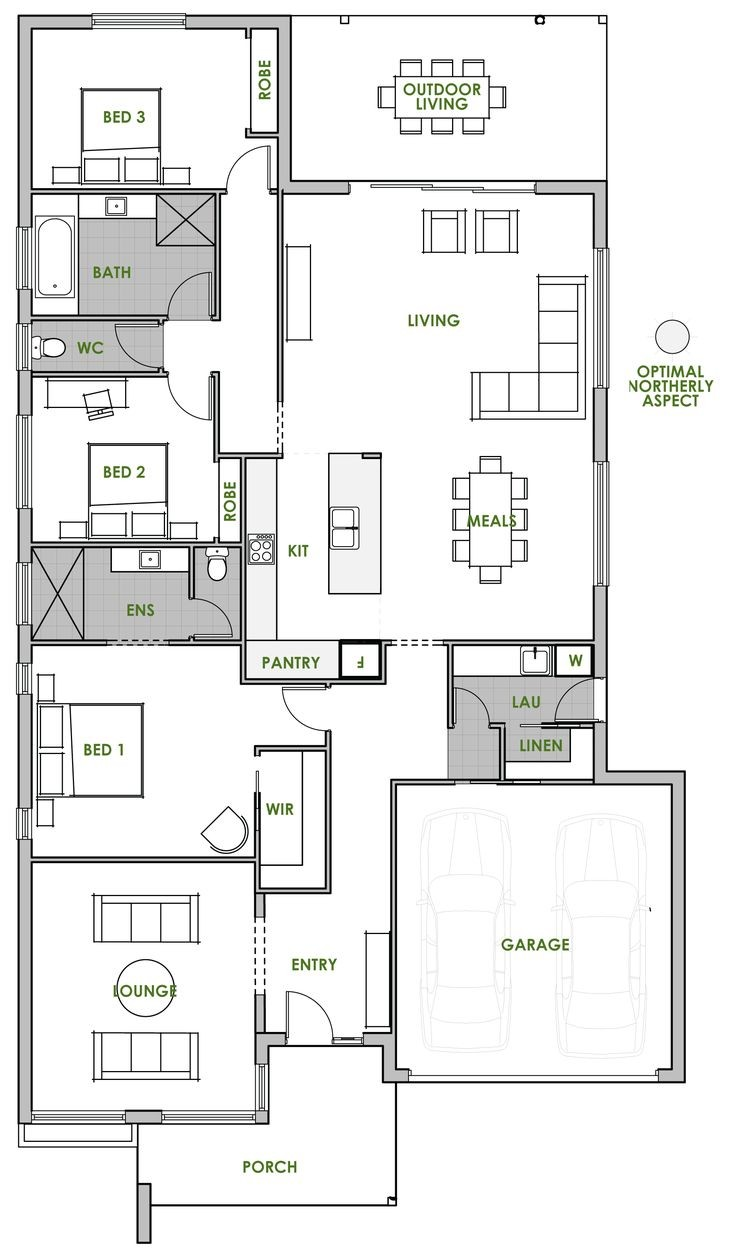door: (111, 311, 182, 379), (274, 684, 344, 744), (213, 138, 280, 200), (163, 365, 223, 432), (280, 990, 344, 1044), (553, 669, 607, 721), (188, 588, 230, 646), (167, 273, 211, 317)
room: (288, 179, 609, 669), (15, 19, 288, 363), (398, 763, 684, 1082), (24, 369, 284, 654), (24, 657, 338, 869), (286, 9, 611, 188)
wall: (665, 767, 692, 1082), (11, 842, 36, 1134), (382, 775, 409, 1036), (265, 1, 299, 198), (13, 7, 44, 223), (36, 850, 263, 873), (32, 532, 238, 557), (236, 459, 259, 679), (178, 4, 294, 42), (24, 182, 224, 204), (586, 761, 690, 800), (32, 307, 176, 334), (269, 205, 288, 407), (586, 584, 619, 686), (271, 167, 353, 205), (319, 736, 338, 898), (15, 692, 38, 811), (532, 171, 613, 202), (438, 640, 463, 730), (588, 384, 617, 459), (36, 630, 115, 657), (511, 769, 603, 792), (590, 171, 615, 254), (380, 1034, 415, 1092), (42, 365, 182, 379), (257, 879, 342, 902), (586, 727, 617, 788), (211, 363, 230, 461), (15, 507, 42, 567), (388, 773, 461, 794), (171, 625, 244, 646), (223, 444, 282, 469), (7, 373, 40, 417), (253, 1036, 292, 1063), (490, 727, 509, 782), (15, 290, 42, 327), (13, 627, 42, 661), (540, 725, 605, 740), (359, 1036, 399, 1055)
window: (588, 261, 621, 384), (92, 4, 180, 42), (5, 555, 38, 625), (13, 423, 38, 509), (13, 223, 36, 294), (13, 323, 42, 369), (11, 809, 44, 838), (15, 665, 32, 690)
